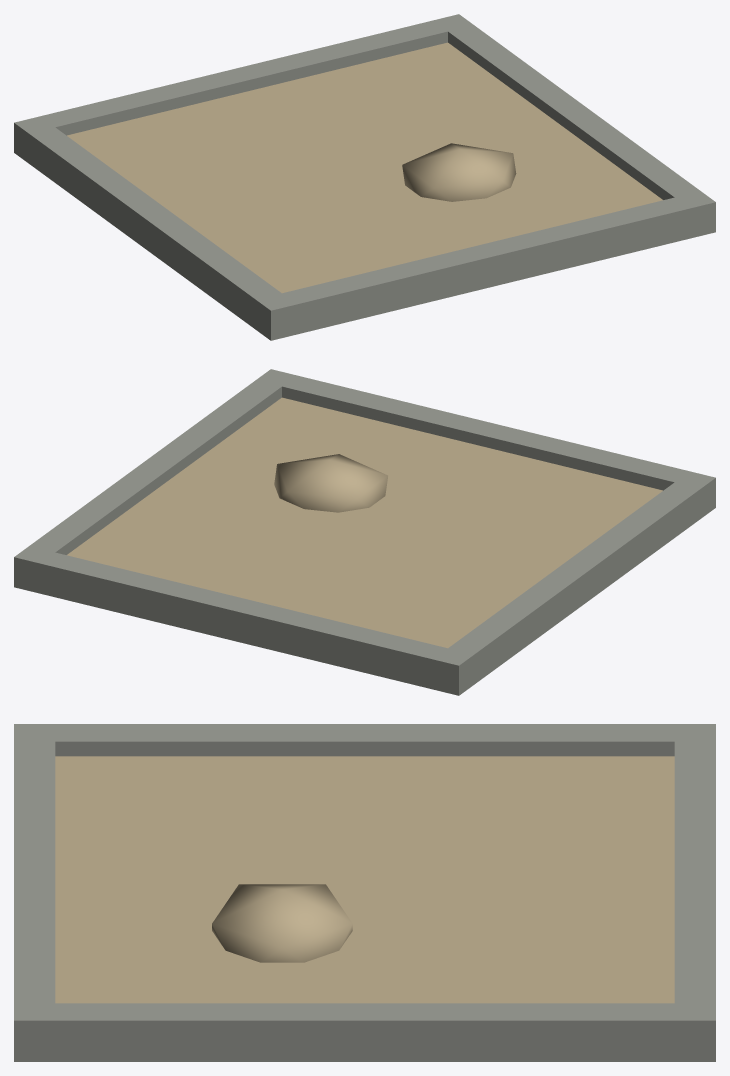
Rendered from site_play4.fbx.
3 views of the same model, one above another, from view 1: azimuth 30°, elevation 25°; view 2: azimuth 150°, elevation 25°; view 3: azimuth 270°, elevation 25° (orthographic). The views are drawn at different scales.
Parts seen in each view (by area): view 1: a3004/0/site_play4; view 2: a3004/0/site_play4; view 3: a3004/0/site_play4.
Part boxes in pixels (<box>): a3004/0/site_play4: <box>14,14,715,340</box>; a3004/0/site_play4: <box>14,369,715,695</box>; a3004/0/site_play4: <box>14,724,715,1061</box>.
Bounding box in the file's own units: 3.4 × 0.44 × 3.4.
